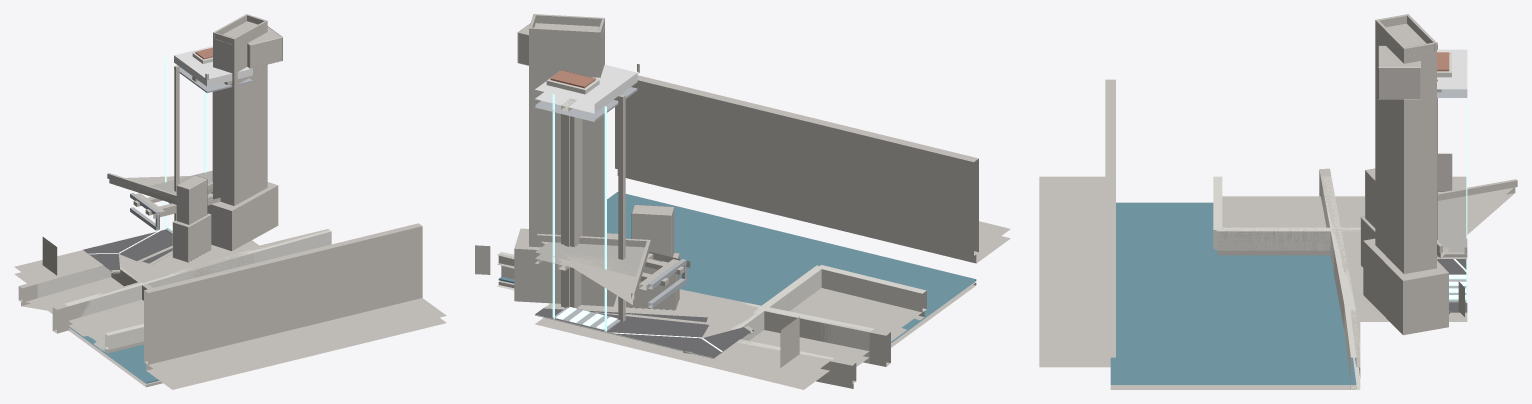
Rendered from tile_2_0.glb.
3 views of the same model, side by side, from view 1: azimuth 30°, elevation 25°; view 2: azimuth 150°, elevation 25°; view 3: azimuth 270°, elevation 25° (orthographic). The views are drawn at different scales.
Parts seen in each view (by area): view 1: t2_0_hlod, t2_0_c6_0_0_concrete, t2_0_c7_0_0_concrete, t2_0_c9_0_0_concrete, t2_0_c8_0_0_concrete, t2_0_c6_1_-1_concrete, t2_0_c6_2_-1_concrete, t2_0_c7_2_0_road, t2_0_c6_1_-1_stone, t2_0_c9_3_1_panel_white, t2_0_c9_2_-1_stone, t2_0_c6_2_-1_stone (+12 smaller); view 2: t2_0_hlod, t2_0_c6_0_0_concrete, t2_0_c7_0_0_concrete, t2_0_c8_0_0_concrete, t2_0_c9_0_0_concrete, t2_0_c8_3_0_concrete, t2_0_c8_0_-1_water, t2_0_c6_1_-1_stone, t2_0_c6_1_-1_concrete, t2_0_c7_1_-1_water, t2_0_c6_2_-1_concrete, t2_0_c7_2_0_road (+21 smaller); view 3: t2_0_hlod, t2_0_c7_1_-1_water, t2_0_c9_1_-1_water, t2_0_c8_0_-1_water, t2_0_c9_0_0_concrete, t2_0_c9_2_-1_water, t2_0_c8_2_-1_water, t2_0_c8_0_0_concrete, t2_0_c6_1_-1_concrete, t2_0_c7_0_0_concrete, t2_0_c6_0_0_concrete, t2_0_c7_1_-1_stone (+15 smaller).
Part boxes in pixels (box(x1,y1,x2,y2)): t2_0_hlod: box(18, 14, 282, 333); t2_0_c6_0_0_concrete: box(133, 273, 240, 389); t2_0_c7_0_0_concrete: box(213, 257, 309, 372); t2_0_c9_0_0_concrete: box(350, 223, 446, 339); t2_0_c8_0_0_concrete: box(281, 240, 377, 356); t2_0_c6_1_-1_concrete: box(68, 302, 143, 377); t2_0_c6_2_-1_concrete: box(14, 250, 115, 313); t2_0_c7_2_0_road: box(83, 233, 172, 270); t2_0_c6_1_-1_stone: box(65, 286, 143, 349); t2_0_c9_3_1_panel_white: box(174, 46, 252, 86); t2_0_c9_2_-1_stone: box(263, 229, 331, 260); t2_0_c6_2_-1_stone: box(37, 265, 102, 297); t2_0_hlod: box(475, 14, 890, 388); t2_0_c6_0_0_concrete: box(884, 136, 1010, 297); t2_0_c7_0_0_concrete: box(794, 114, 888, 241); t2_0_c8_0_0_concrete: box(704, 93, 798, 219); t2_0_c9_0_0_concrete: box(615, 75, 709, 197); t2_0_c8_3_0_concrete: box(535, 118, 656, 321); t2_0_c8_0_-1_water: box(674, 226, 779, 285); t2_0_c6_1_-1_stone: box(776, 268, 926, 363); t2_0_c6_1_-1_concrete: box(801, 290, 958, 366); t2_0_c7_1_-1_water: box(714, 248, 868, 305); t2_0_c6_2_-1_concrete: box(714, 341, 855, 389); t2_0_c7_2_0_road: box(624, 314, 750, 358); t2_0_hlod: box(1217, 14, 1517, 335); t2_0_c7_1_-1_water: box(1146, 248, 1337, 292); t2_0_c9_1_-1_water: box(1146, 338, 1253, 384); t2_0_c8_0_-1_water: box(1146, 293, 1253, 338); t2_0_c9_0_0_concrete: box(1039, 215, 1146, 389); t2_0_c9_2_-1_water: box(1253, 338, 1356, 384); t2_0_c8_2_-1_water: box(1253, 293, 1345, 338); t2_0_c8_0_0_concrete: box(1039, 170, 1115, 312); t2_0_c6_1_-1_concrete: box(1222, 196, 1360, 227); t2_0_c7_0_0_concrete: box(1039, 125, 1115, 267); t2_0_c6_0_0_concrete: box(1039, 79, 1115, 221); t2_0_c7_1_-1_stone: box(1213, 222, 1360, 273).
Size of what is drawn, in the model's own units: 254 by 193 by 268.
